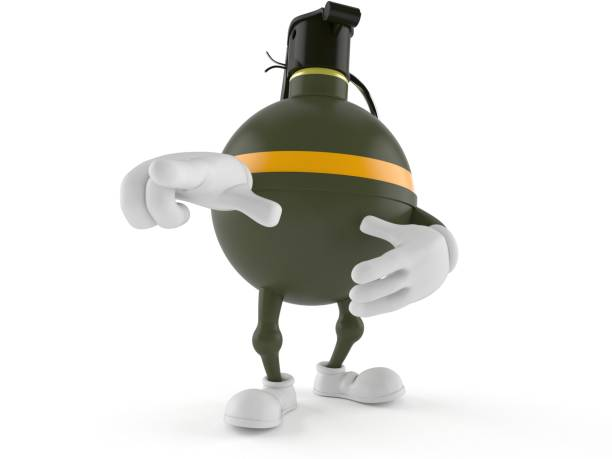e1: (211, 2, 414, 300)
